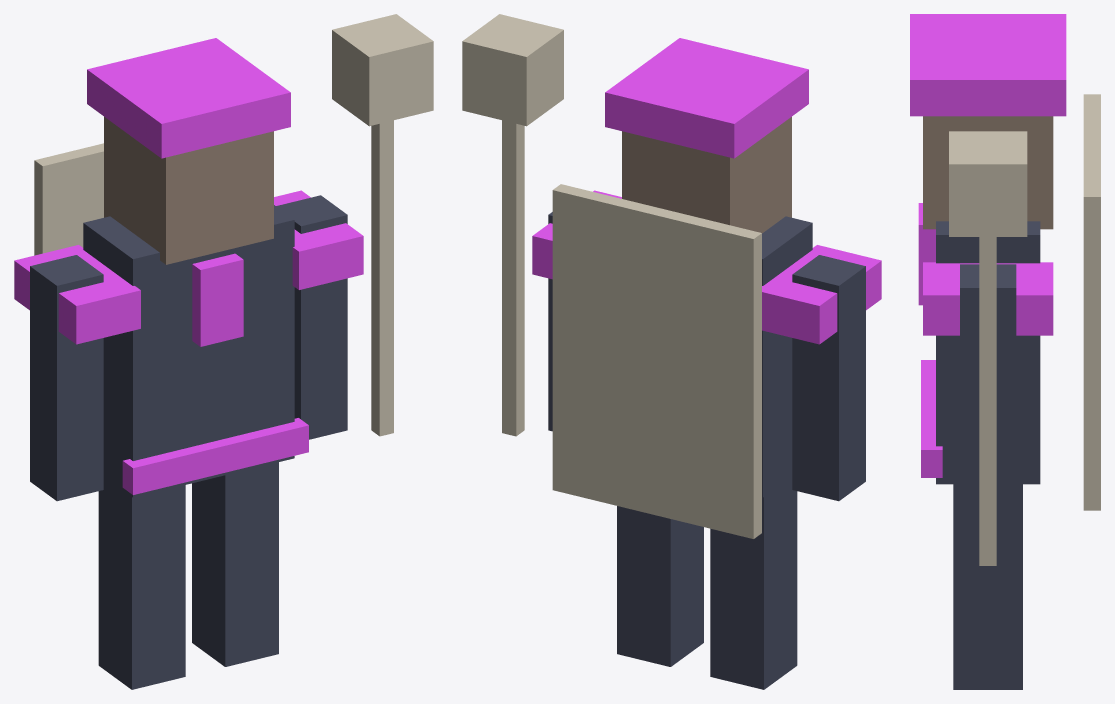
File: 03_eryk_stormhush_pilgrim_from_fallback.glb
The picture shows the model from 3 angles, left to right: view 1: azimuth 30°, elevation 25°; view 2: azimuth 150°, elevation 25°; view 3: azimuth 270°, elevation 25°; orthographic projection. The views are drawn at different scales.
Parts seen in each view (by area): view 1: Eryk Stormhush, Pilgrim from Fallback; view 2: Eryk Stormhush, Pilgrim from Fallback; view 3: Eryk Stormhush, Pilgrim from Fallback.
Part boxes in pixels (x1,y1,x2,y2): Eryk Stormhush, Pilgrim from Fallback: [14, 14, 433, 689]; Eryk Stormhush, Pilgrim from Fallback: [462, 14, 881, 689]; Eryk Stormhush, Pilgrim from Fallback: [910, 14, 1100, 689].
Bounding box in the file's own units: 1.02 × 1.52 × 0.4331.
